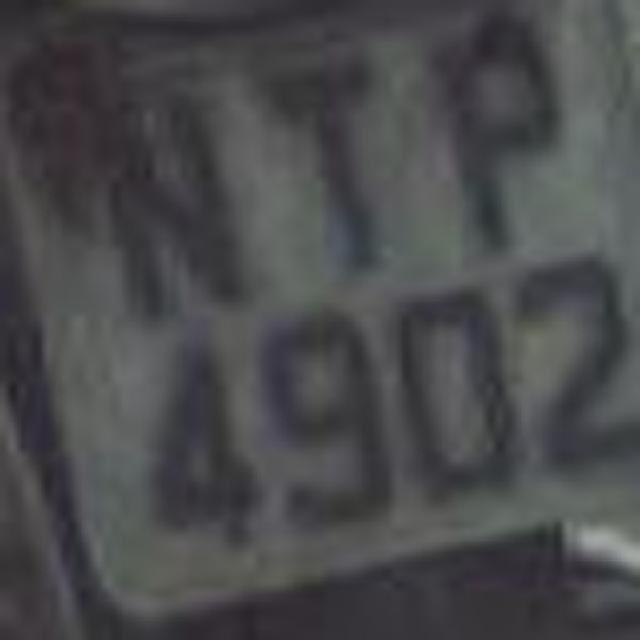0: (369, 256, 536, 524)
2: (1, 1, 2, 1)
4: (111, 316, 284, 564)
9: (229, 288, 416, 540)
N: (84, 100, 248, 320)
P: (428, 28, 584, 264)
T: (256, 55, 412, 280)
